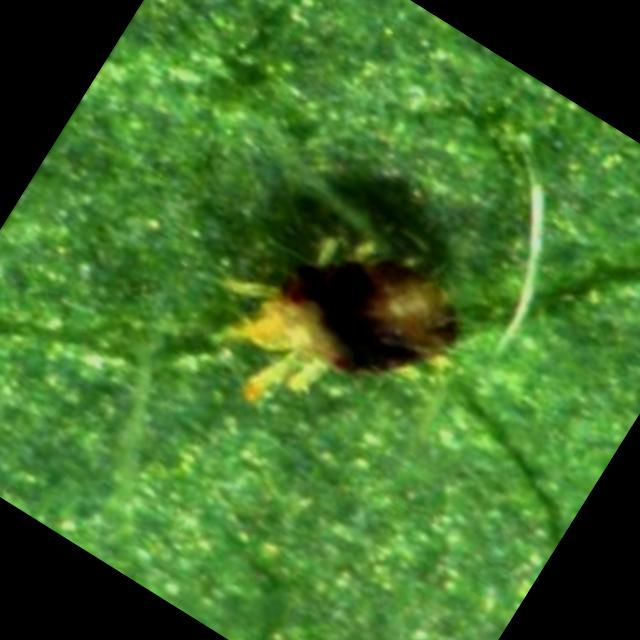spider mite: (134, 127, 536, 522)
